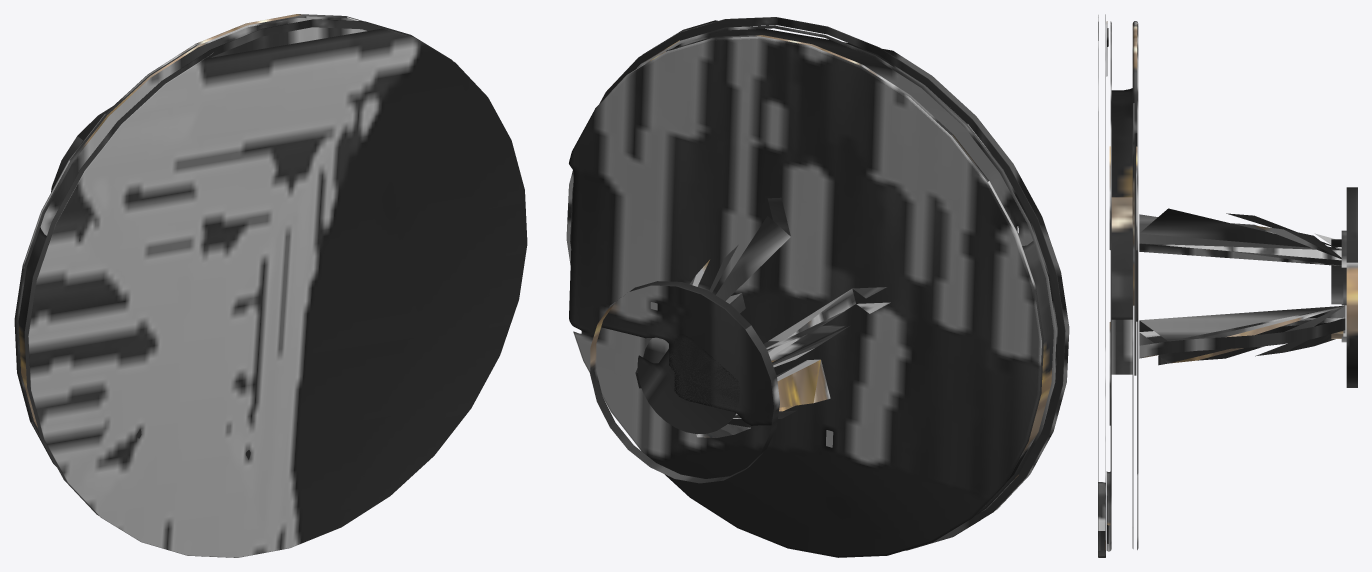
3 views of the same model, side by side, from view 1: azimuth 30°, elevation 25°; view 2: azimuth 150°, elevation 25°; view 3: azimuth 270°, elevation 25° (orthographic). The views are drawn at different scales.
Size of the model in its own units: 0.65 by 0.6503 by 0.3107.
